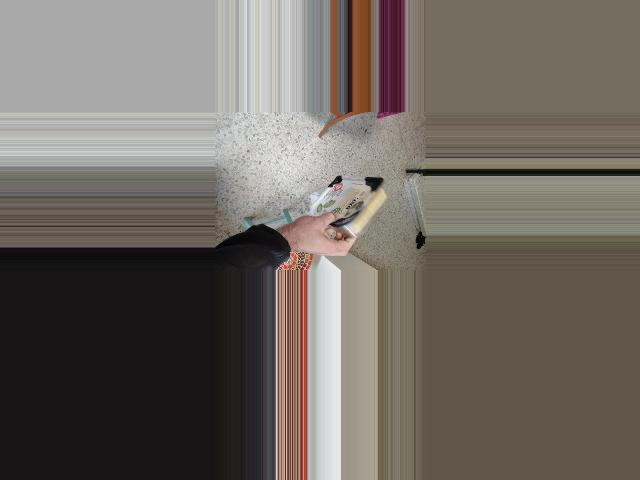cheese: (313, 151, 406, 262)
